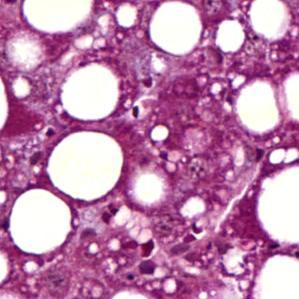steatosis: (45, 127, 127, 202), (5, 179, 69, 257)
